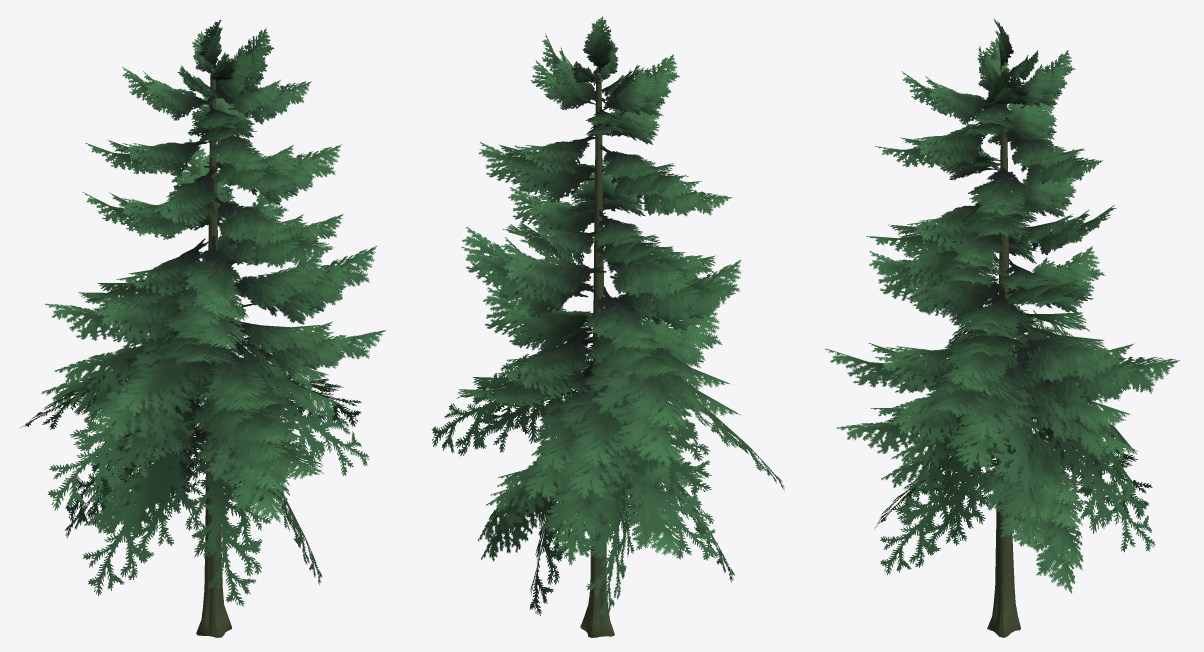
Rendered from Fir_Bl+Ñ.S.B.Z1.fbx.
The picture shows the model from 3 angles, left to right: view 1: azimuth 30°, elevation 25°; view 2: azimuth 150°, elevation 25°; view 3: azimuth 270°, elevation 25°; orthographic projection.
Parts seen in each view (by area): view 1: Fir_Blå_S_B_Z1; view 2: Fir_Blå_S_B_Z1; view 3: Fir_Blå_S_B_Z1.
Part boxes in pixels (x1,y1,x2,y2): Fir_Blå_S_B_Z1: (21,19,386,637); Fir_Blå_S_B_Z1: (431,16,784,637); Fir_Blå_S_B_Z1: (824,18,1179,637).
Size of the model in its own units: 449 by 739 by 406.
